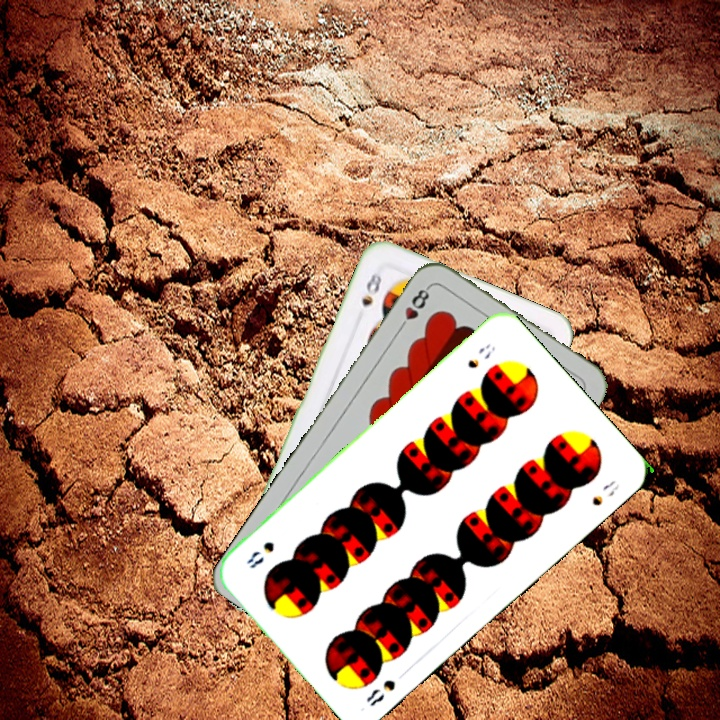H8: (394, 282, 433, 334)
S8: (362, 675, 398, 709), (357, 268, 385, 309), (463, 340, 498, 371)
